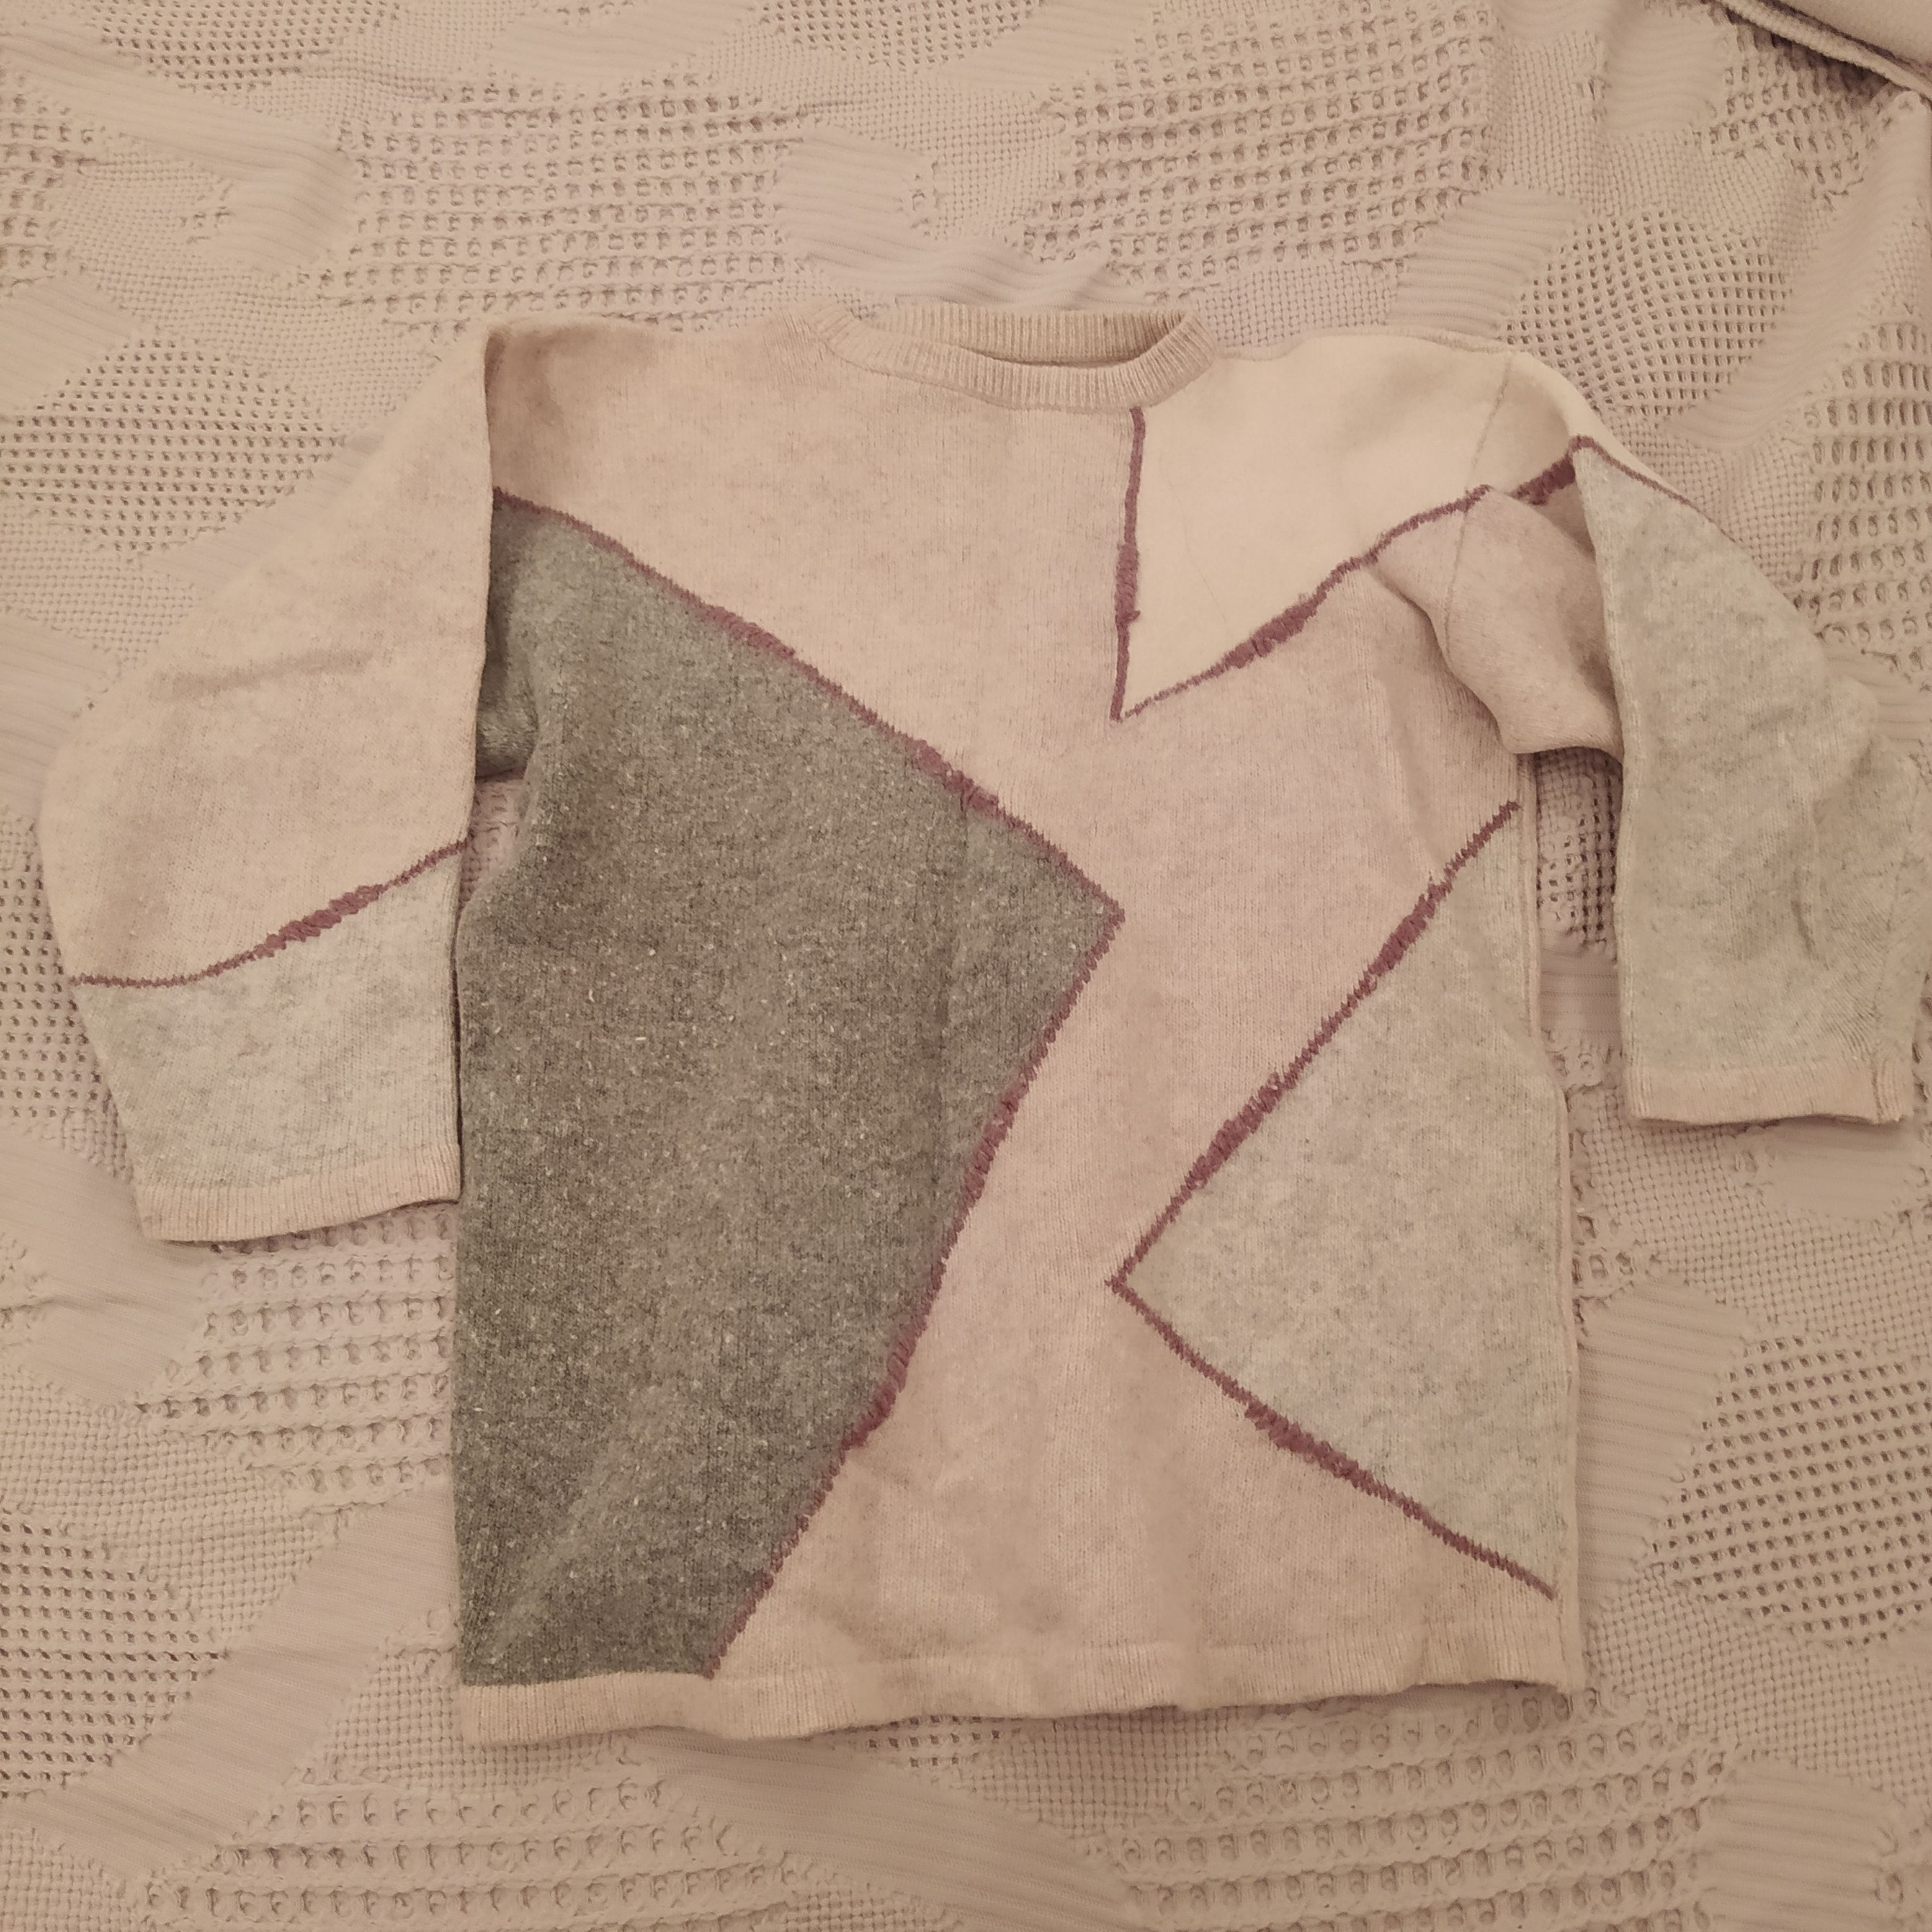clothes: (35, 267, 1932, 1734)
